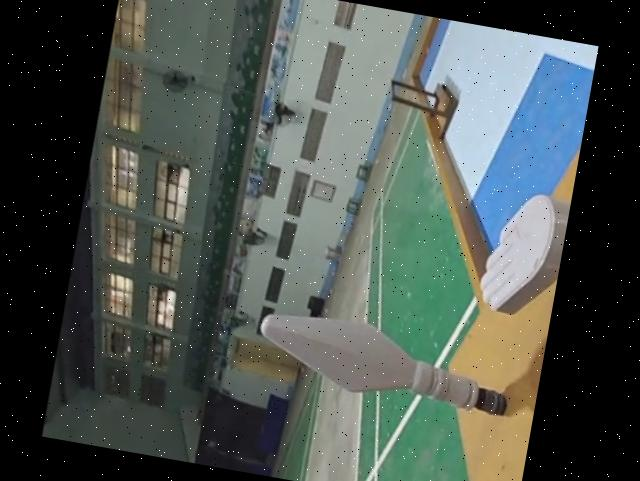Hand: (473, 185, 572, 320)
Sph: (248, 300, 517, 425)
